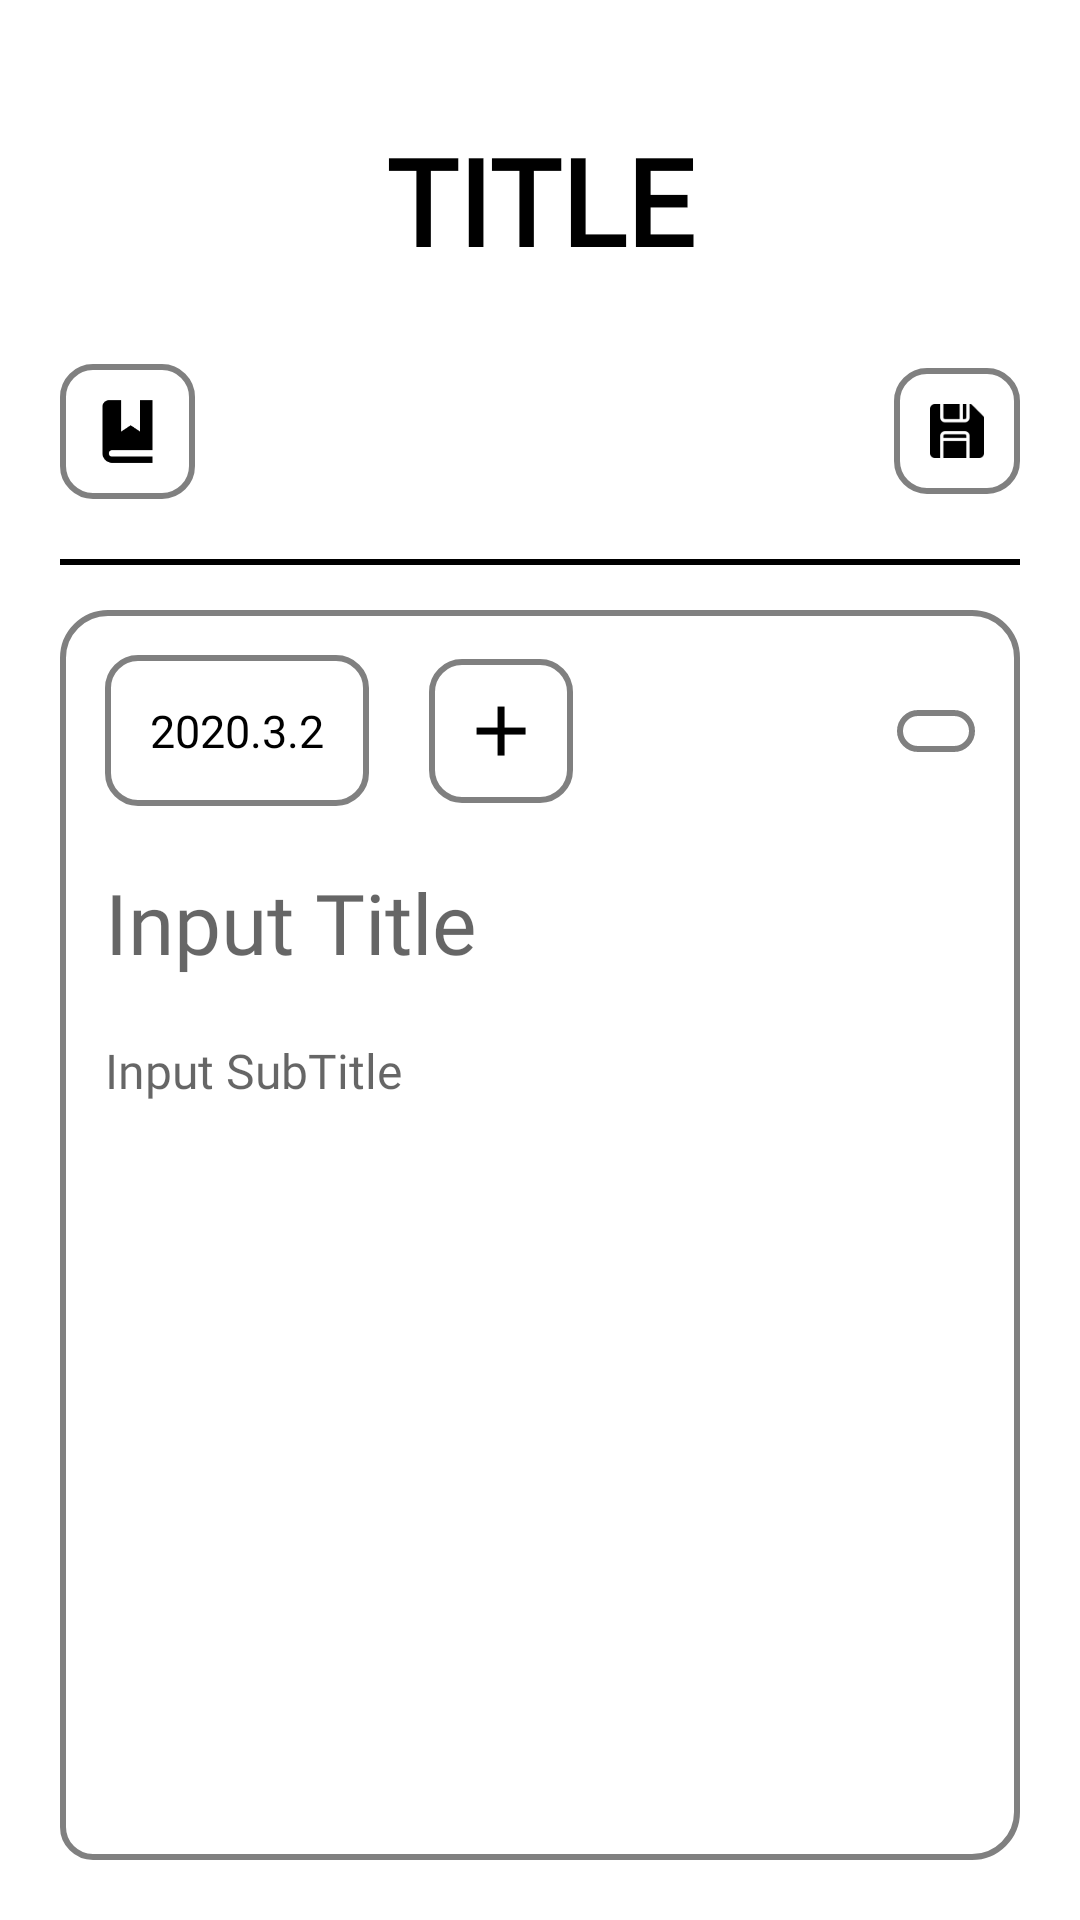

Named icons in this screenshot (1080 x 1920) and their bounding boxes, (x1, y1, x2, y2):
add: (429, 659, 573, 803)
bookmark: (60, 364, 195, 499)
save: (894, 368, 1020, 494)
